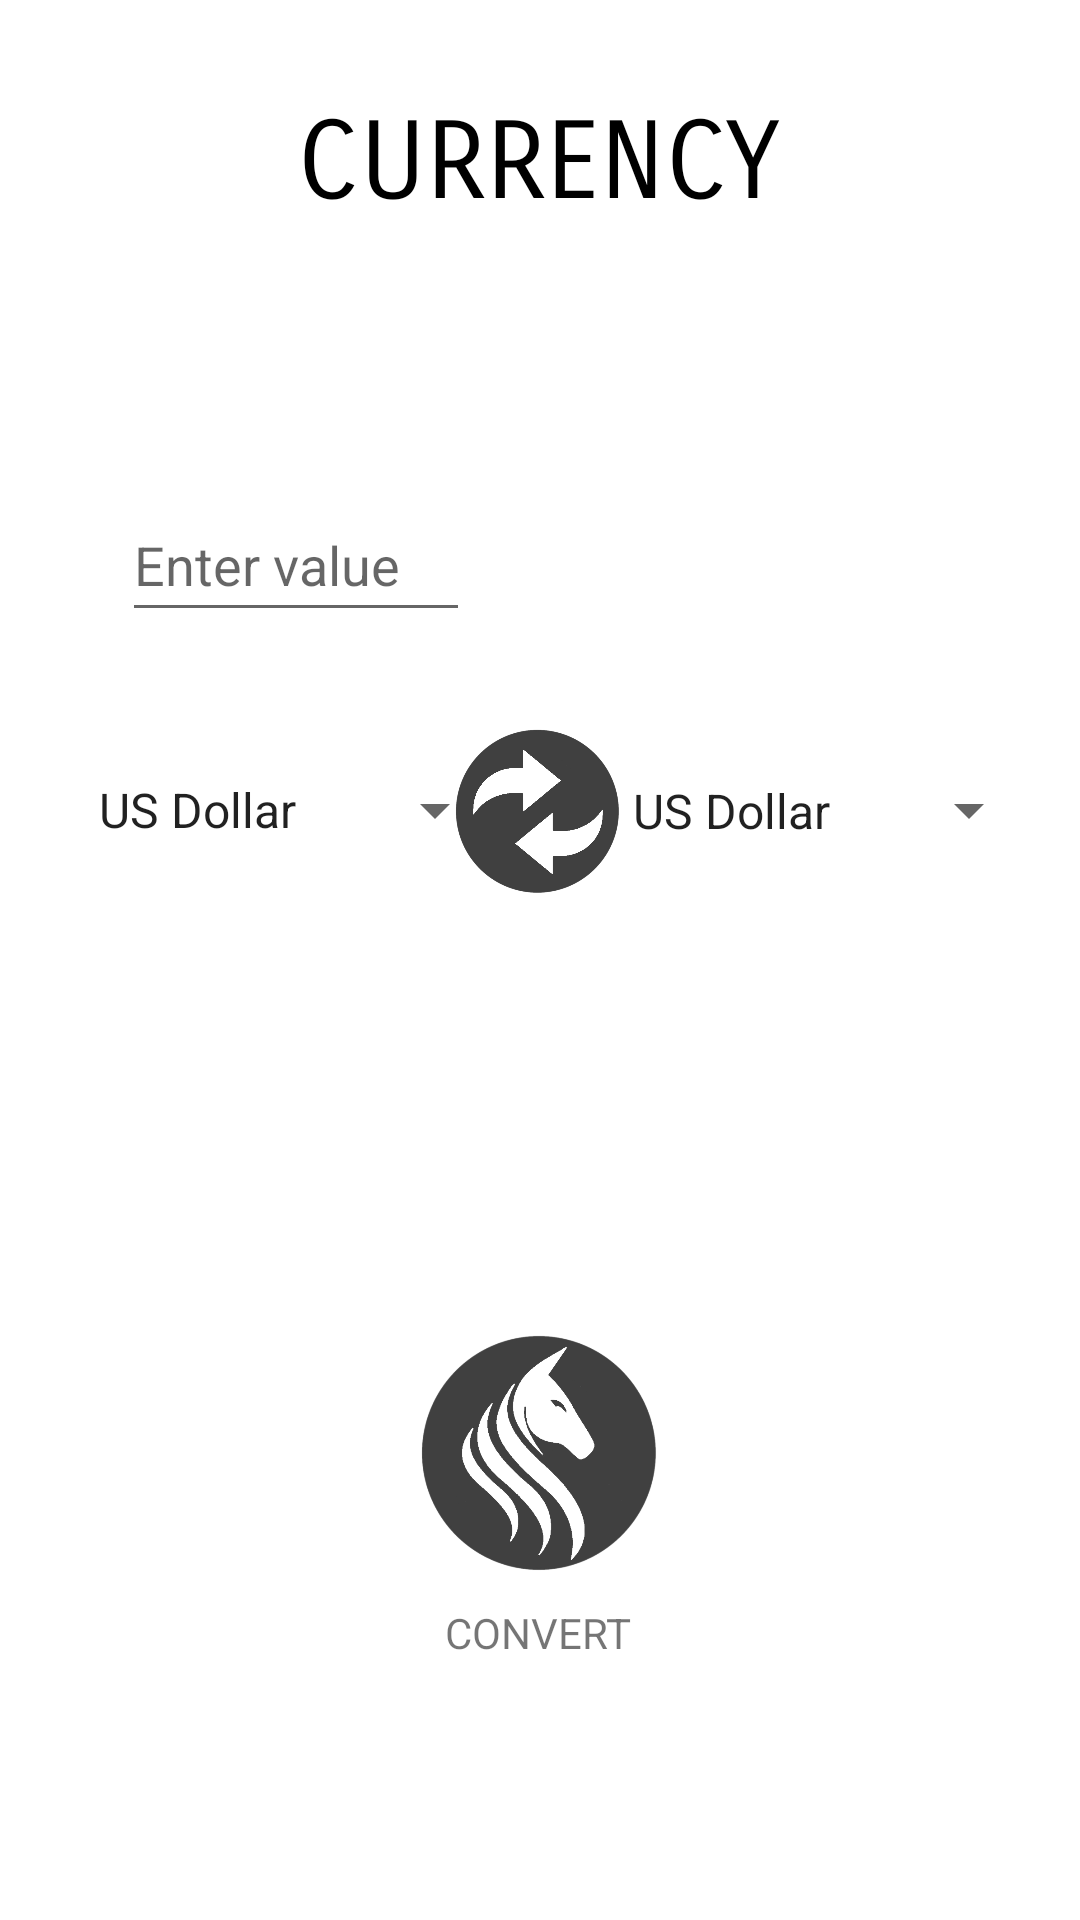

Named icons in this screenshot (1080×1920) and their centers, (x,y):
swap: (537,811)
